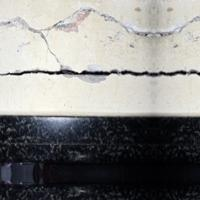crack: (2, 11, 194, 108)
